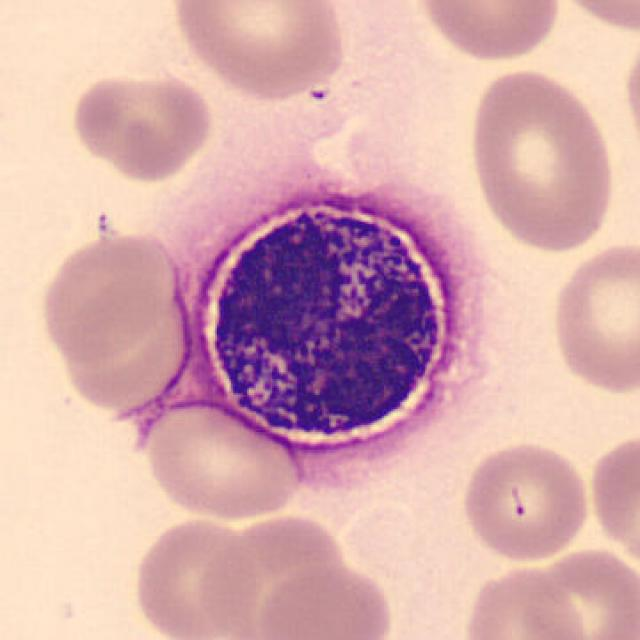Basophil: (180, 171, 512, 494)
RBC: (464, 65, 619, 256), (138, 393, 306, 524), (194, 509, 352, 640), (36, 227, 180, 365), (58, 280, 198, 416), (167, 0, 352, 102), (67, 67, 217, 183), (458, 437, 594, 564), (128, 513, 263, 640), (546, 236, 638, 397), (250, 560, 396, 640), (519, 543, 638, 640), (411, 0, 565, 65), (461, 562, 588, 640), (585, 426, 638, 574), (546, 0, 640, 35), (620, 23, 640, 159)
